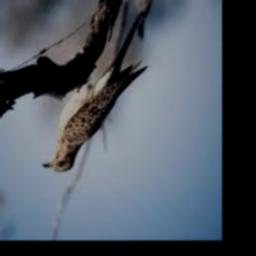Cuckoo: (43, 13, 148, 172)
